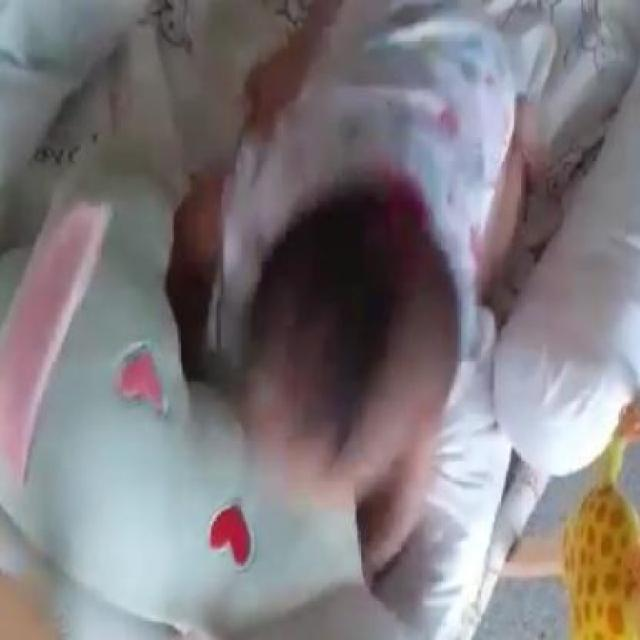baby: (166, 2, 545, 570)
